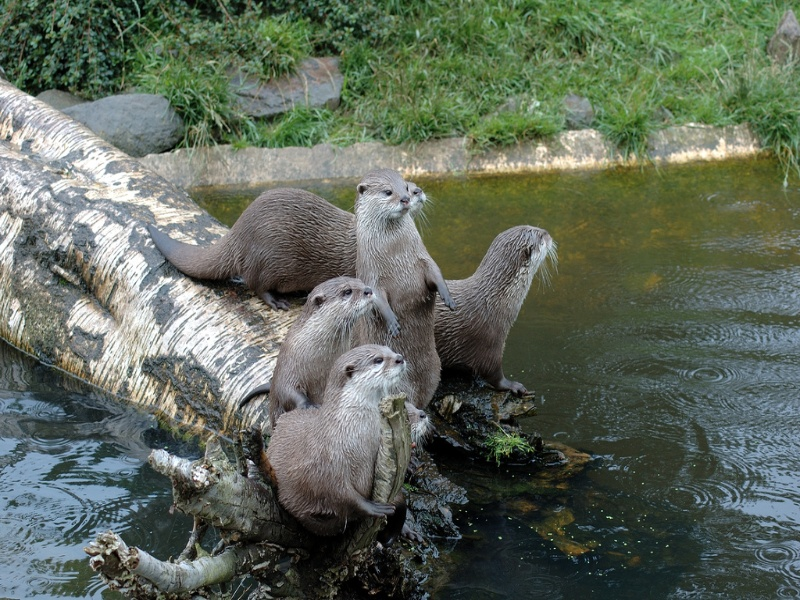minkish: (141, 186, 435, 305), (265, 346, 407, 552), (354, 171, 464, 425), (421, 223, 556, 388), (255, 274, 375, 426)
